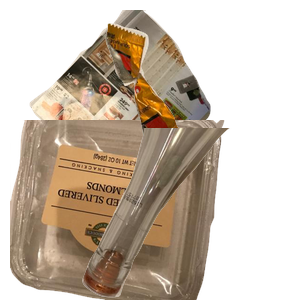glass: (80, 128, 300, 300)
paper: (27, 10, 230, 190)
plastic: (10, 120, 227, 300)
trash: (103, 21, 300, 174)
